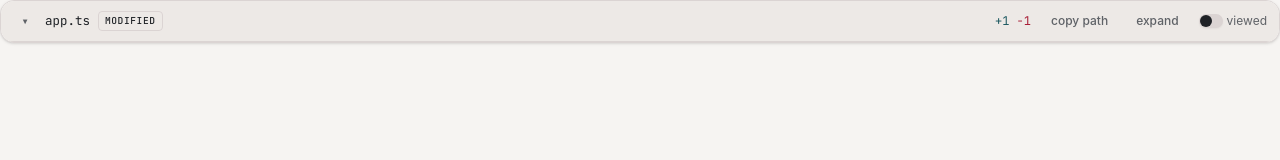
Test: expand shows the unavailable notice when required content is empty
This screenshot has width=1280, height=160.
Click the button "expand": {"x": 1157, "y": 21} [1128,9,1187,33]
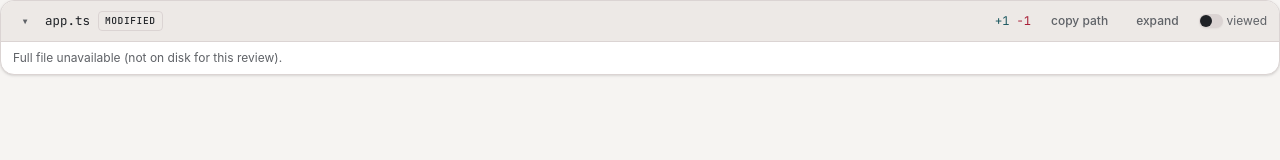
Now the text "Full file unavailable (not on disk for this review)." is shown, box [13,50,282,65]
